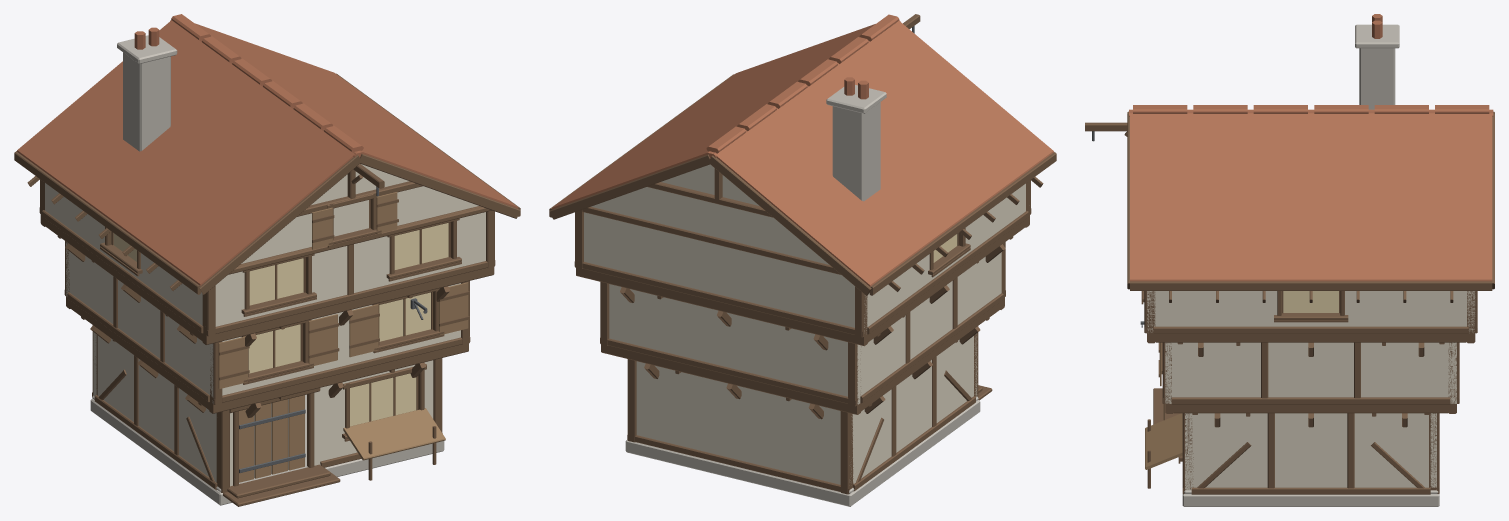
Rendered from house_b.glb.
3 views of the same model, side by side, from view 1: azimuth 30°, elevation 25°; view 2: azimuth 150°, elevation 25°; view 3: azimuth 270°, elevation 25° (orthographic).
Visible parts, largest first — view 1: house_b; view 2: house_b; view 3: house_b.
Boxes of the visible parts, x1,y1,x2,y2 form: house_b: (14,14,520,506); house_b: (549,14,1056,506); house_b: (1085,14,1494,506).
Bounding box in the file's own units: 13.94 × 15.69 × 14.87.
